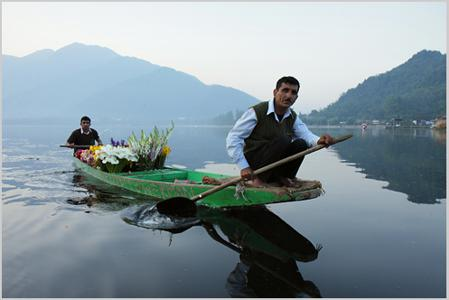person: (223, 75, 338, 189)
